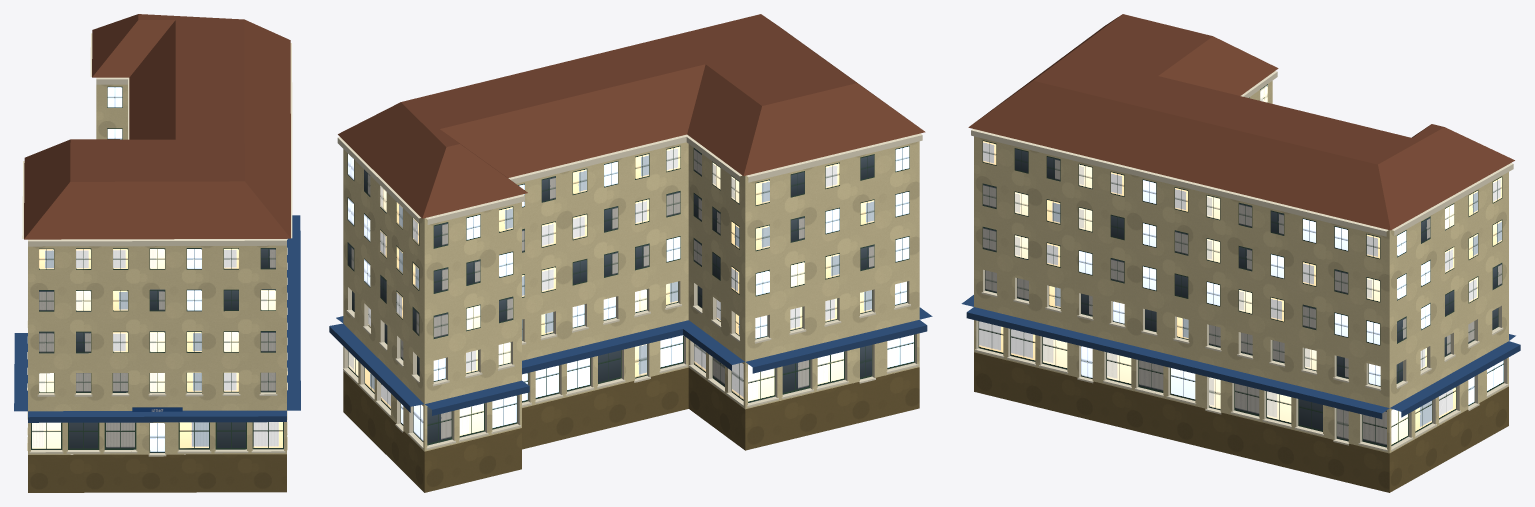
File: langstr_eck.glb
3 renders of one model, left to right at view 1: azimuth 30°, elevation 25°; view 2: azimuth 150°, elevation 25°; view 3: azimuth 270°, elevation 25°, orthographic. The views are drawn at different scales.
Visible parts, largest first — view 1: langstr_eck; view 2: langstr_eck; view 3: langstr_eck.
Part boxes in pixels (<box>): langstr_eck: <box>14,14,300,492</box>; langstr_eck: <box>329,14,932,492</box>; langstr_eck: <box>961,14,1520,492</box>.
Bounding box in the file's own units: 34.32 × 23.13 × 38.53.
3 materials, 3 textured.
